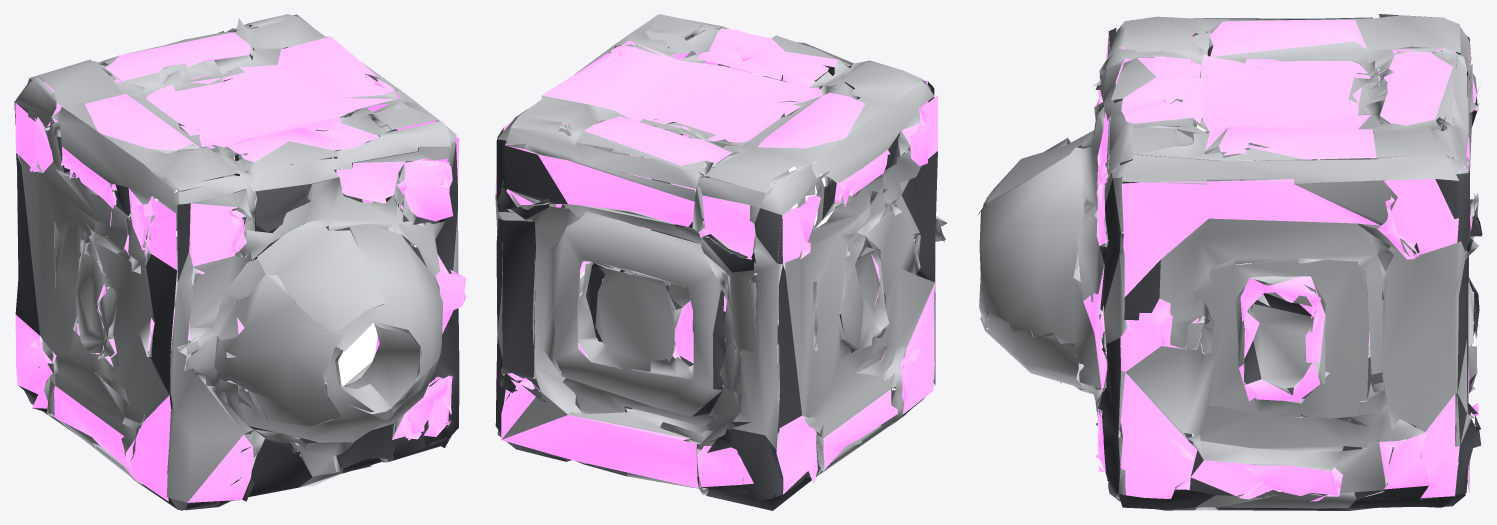
File: SM_WaterRecycler_v1_slots.fbx
3 views of the same model, side by side, from view 1: azimuth 30°, elevation 25°; view 2: azimuth 150°, elevation 25°; view 3: azimuth 270°, elevation 25° (orthographic). The views are drawn at different scales.
Parts seen in each view (by area): view 1: SM_WaterRecycler; view 2: SM_WaterRecycler; view 3: SM_WaterRecycler.
Boxes of the visible parts, box(x1,y1,x2,y2) form: SM_WaterRecycler: box(14, 14, 466, 510); SM_WaterRecycler: box(495, 14, 947, 510); SM_WaterRecycler: box(977, 14, 1482, 510).
Bounding box in the file's own units: 0.7331 × 0.775 × 0.9535.
